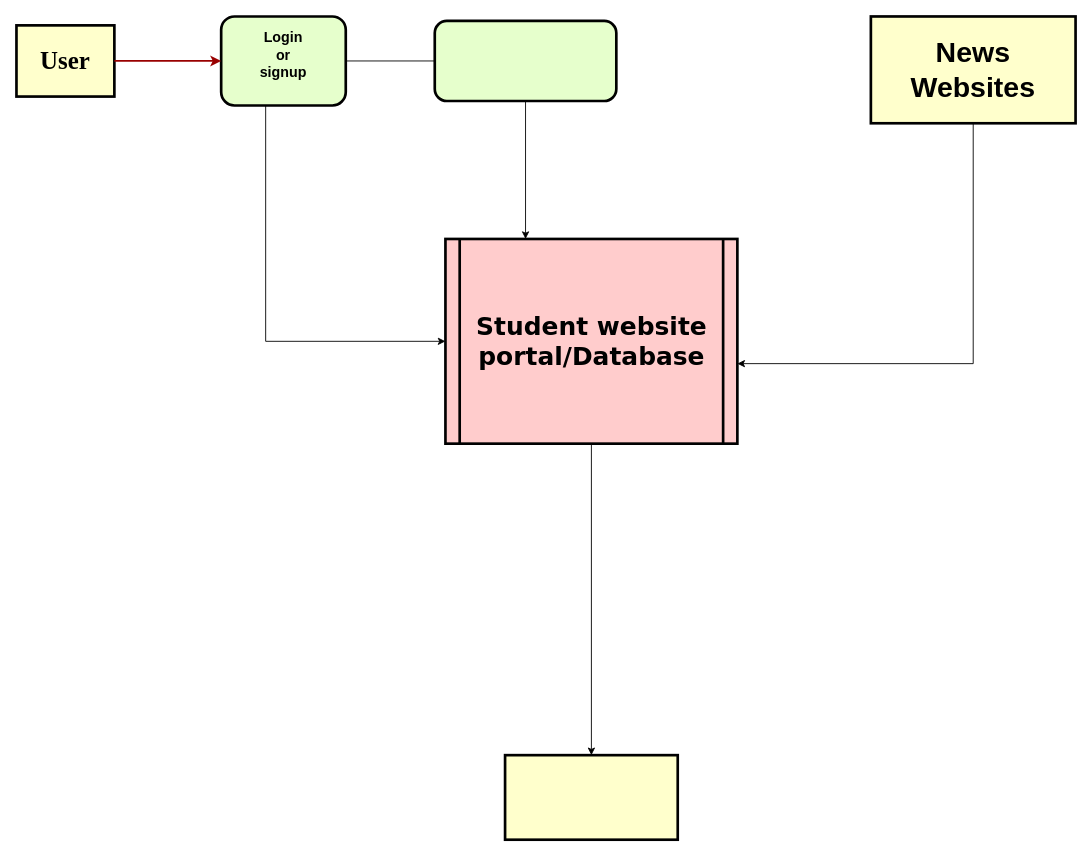
Some shapes in this 1092 by 856 pixel diagram are drawn without their labels. Here are the shapes that lost their labels. From the top down, the box of each, then its label:
(433, 19, 617, 102): Select the domain or interests
(503, 753, 679, 841): Admin
